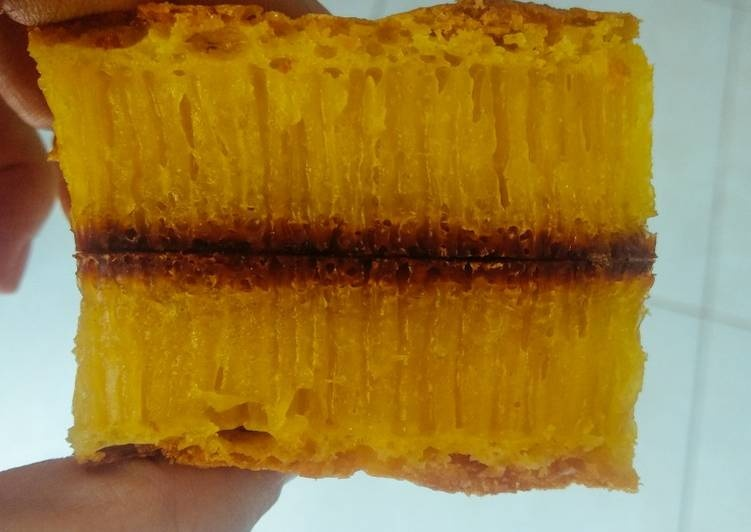bika_ambon: (26, 10, 665, 273), (43, 242, 666, 500)
